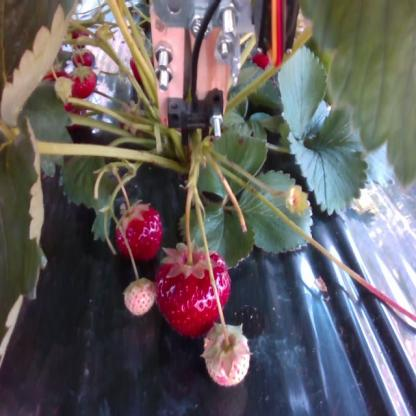ripe: (160, 248, 230, 335), (121, 206, 159, 254), (70, 67, 94, 93), (72, 46, 96, 68)
unripe: (209, 323, 248, 386), (124, 285, 157, 314)
